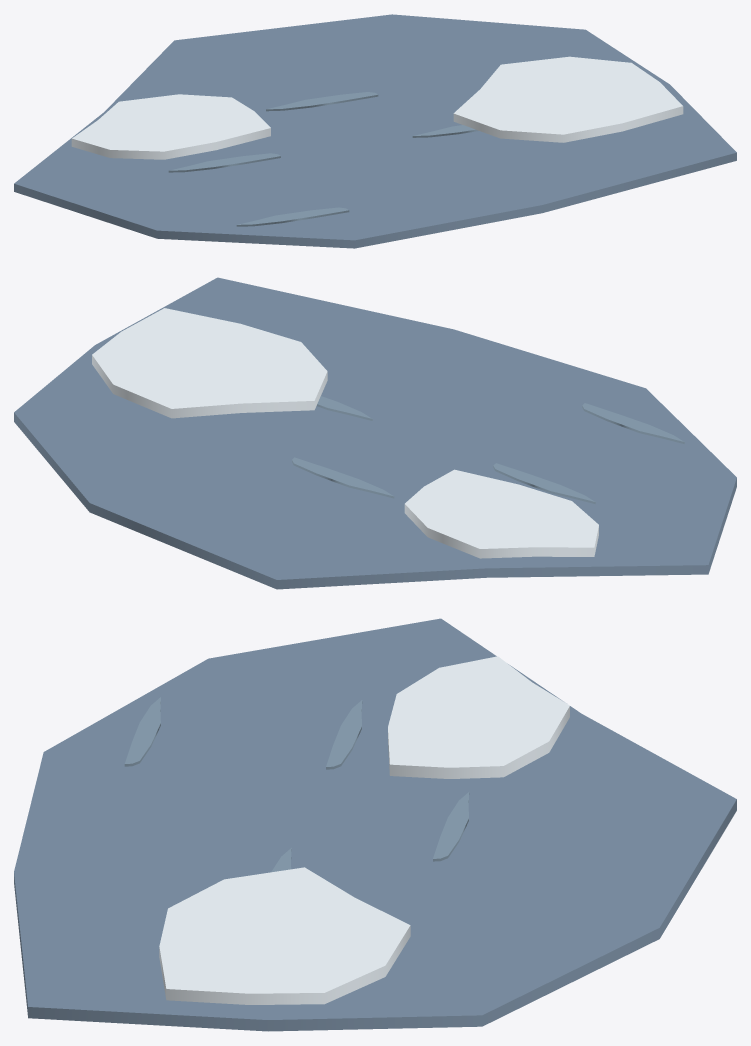
Rendered from patch-puddle-snowy.glb.
3 renders of one model, top to bottom at view 1: azimuth 30°, elevation 25°; view 2: azimuth 150°, elevation 25°; view 3: azimuth 270°, elevation 25°, orthographic. The views are drawn at different scales.
Parts seen in each view (by area): view 1: patch-puddle-kit-snowy-shade, patch-puddle-kit-snowy-top, patch-puddle-kit-snowy-metal; view 2: patch-puddle-kit-snowy-shade, patch-puddle-kit-snowy-top, patch-puddle-kit-snowy-metal; view 3: patch-puddle-kit-snowy-shade, patch-puddle-kit-snowy-top, patch-puddle-kit-snowy-metal.
Boxes of the visible parts, left/top/right/bottom form: patch-puddle-kit-snowy-shade: left=14, top=14, right=736, bottom=248; patch-puddle-kit-snowy-top: left=71, top=56, right=683, bottom=159; patch-puddle-kit-snowy-metal: left=168, top=92, right=478, bottom=226; patch-puddle-kit-snowy-shade: left=14, top=277, right=736, bottom=589; patch-puddle-kit-snowy-top: left=92, top=308, right=598, bottom=558; patch-puddle-kit-snowy-metal: left=292, top=396, right=684, bottom=504; patch-puddle-kit-snowy-shade: left=14, top=618, right=736, bottom=1031; patch-puddle-kit-snowy-top: left=159, top=656, right=569, bottom=1004; patch-puddle-kit-snowy-metal: left=124, top=697, right=469, bottom=872.
Bounding box in the file's own units: 2.66 × 0.082 × 2.02.
